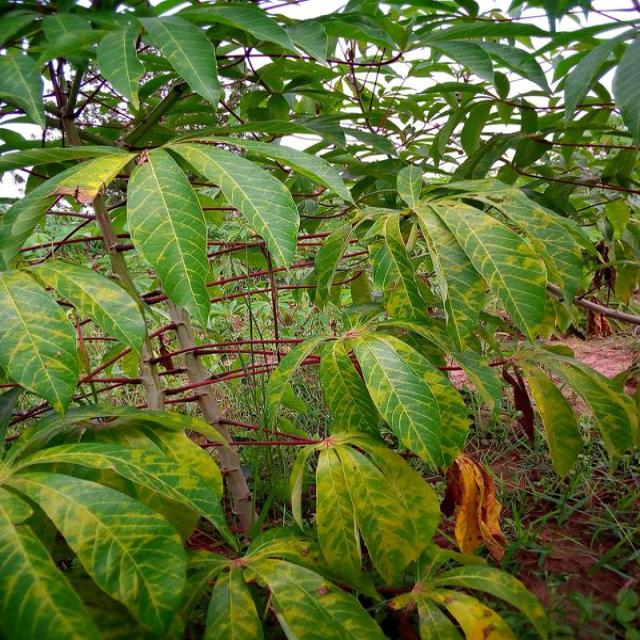cassava leaf: (316, 430, 442, 591), (162, 139, 302, 271), (352, 328, 470, 473), (126, 146, 212, 331), (1, 268, 80, 418)
